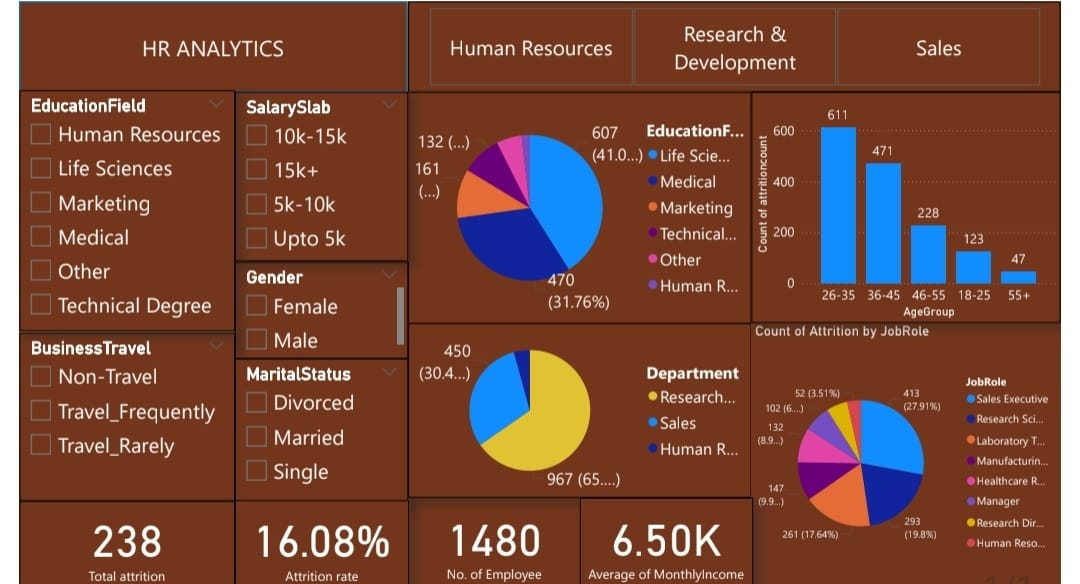

This screenshot's page, from the dashboard's own definition file:
{"tool":"powerbi","page":{"name":"Page 1","canvas":[1280,720],"ordinal":0},"visuals":[{"type":"card","fields":{"Values":["CountNonNull(HR_Analytics.Attrition)"]},"box":[476.2,609.9,212.7,111.1],"z":0},{"type":"shape","box":[0,0,476.2,111.1],"z":1000},{"type":"slicer","fields":{"Values":["HR_Analytics.Gender"]},"box":[264.9,320,213.3,118.7],"z":2000},{"type":"slicer","fields":{"Values":["HR_Analytics.BusinessTravel"]},"box":[0,406.6,265.4,207.1],"z":3000},{"type":"slicer","fields":{"Values":["HR_Analytics.MaritalStatus"]},"box":[265.4,438.6,212.7,175.1],"z":4000},{"type":"slicer","fields":{"Values":["HR_Analytics.Department"]},"box":[478.1,0,801.9,111.1],"z":6000},{"type":"pieChart","fields":{"Category":["HR_Analytics.Department"],"Y":["CountNonNull(HR_Analytics.attritioncount)"]},"box":[478.1,395.3,421.6,214.6],"z":8000},{"type":"pieChart","fields":{"Y":["CountNonNull(HR_Analytics.attritioncount)"],"Category":["HR_Analytics.EducationField"]},"box":[478,111,422.5,284.6],"z":9000},{"type":"slicer","fields":{"Values":["HR_Analytics.SalarySlab"]},"box":[265,111,213,207.7],"z":9002},{"type":"slicer","fields":{"Values":["HR_Analytics.EducationField"]},"box":[0,109.2,265,295.4],"z":9003},{"type":"pieChart","fields":{"Category":["HR_Analytics.JobRole"],"Y":["CountNonNull(HR_Analytics.Attrition)"]},"box":[899.8,395.3,380.2,325.6],"z":9004},{"type":"columnChart","fields":{"Category":["HR_Analytics.AgeGroup"],"Y":["CountNonNull(HR_Analytics.attritioncount)"]},"box":[899.8,111.1,380.2,284.2],"z":9005},{"type":"card","fields":{"Values":["Sum(HR_Analytics.attritioncount)"]},"box":[0,613.6,265.4,107.3],"z":9006},{"type":"card","fields":{"Values":["HR_Analytics.RATE"]},"box":[265.4,613.6,212.7,107.3],"z":9007},{"type":"card","fields":{"Values":["Avg(HR_Analytics.MonthlyIncome)"]},"box":[688.9,609.9,212.7,111.1],"z":9009}]}

Visuals, with their boxes on the page's 1280x720 design canvas (x1, y1, x2, y2). These are canvas units, not pixel positions in the 1080x584 screenshot, which may show the page scaled, cropped or inside an application window:
card - CountNonNull(HR_Analytics.Attrition): [476, 610, 689, 721]
shape: [0, 0, 476, 111]
slicer - HR_Analytics.Gender: [265, 320, 478, 439]
slicer - HR_Analytics.BusinessTravel: [0, 407, 265, 614]
slicer - HR_Analytics.MaritalStatus: [265, 439, 478, 614]
slicer - HR_Analytics.Department: [478, 0, 1280, 111]
pieChart - HR_Analytics.Department x CountNonNull(HR_Analytics.attritioncount): [478, 395, 900, 610]
pieChart - CountNonNull(HR_Analytics.attritioncount) x HR_Analytics.EducationField: [478, 111, 900, 396]
slicer - HR_Analytics.SalarySlab: [265, 111, 478, 319]
slicer - HR_Analytics.EducationField: [0, 109, 265, 405]
pieChart - HR_Analytics.JobRole x CountNonNull(HR_Analytics.Attrition): [900, 395, 1280, 721]
columnChart - HR_Analytics.AgeGroup x CountNonNull(HR_Analytics.attritioncount): [900, 111, 1280, 395]
card - Sum(HR_Analytics.attritioncount): [0, 614, 265, 721]
card - HR_Analytics.RATE: [265, 614, 478, 721]
card - Avg(HR_Analytics.MonthlyIncome): [689, 610, 902, 721]
